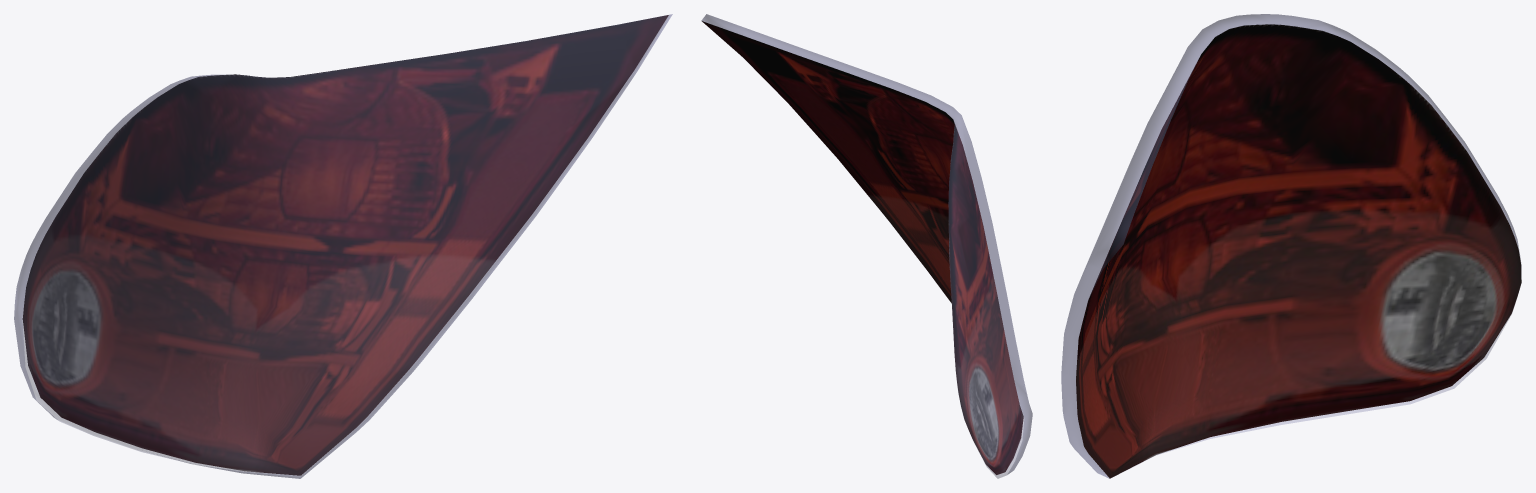
3 views of the same model, side by side, from view 1: azimuth 30°, elevation 25°; view 2: azimuth 150°, elevation 25°; view 3: azimuth 270°, elevation 25° (orthographic). The views are drawn at different scales.
Parts seen in each view (by area): view 1: Z166_541C_R_Z166_541C_R_2_DTaSI, Z166_541C_R_1_N_Z166_541C_R; view 2: Z166_541C_R_1_N_Z166_541C_R, Z166_541C_R_Z166_541C_R_2_DTaSI; view 3: Z166_541C_R_1_N_Z166_541C_R, Z166_541C_R_Z166_541C_R_2_DTaSI.
Boxes of the visible parts, x1,y1,x2,y2 form: Z166_541C_R_Z166_541C_R_2_DTaSI: (14, 14, 672, 478); Z166_541C_R_1_N_Z166_541C_R: (22, 15, 668, 475); Z166_541C_R_1_N_Z166_541C_R: (702, 21, 1023, 474); Z166_541C_R_Z166_541C_R_2_DTaSI: (701, 14, 1032, 478); Z166_541C_R_1_N_Z166_541C_R: (1076, 24, 1521, 478); Z166_541C_R_Z166_541C_R_2_DTaSI: (1061, 14, 1520, 478).
Size of the model in its own units: 43.55 by 30.58 by 26.76.
